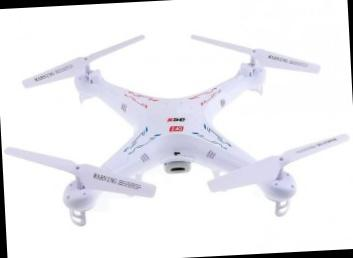drone: (9, 29, 353, 231)
